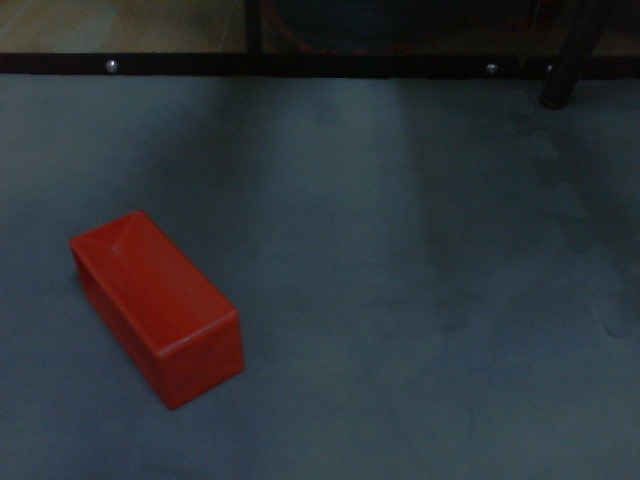RedSample: (66, 207, 247, 413)
